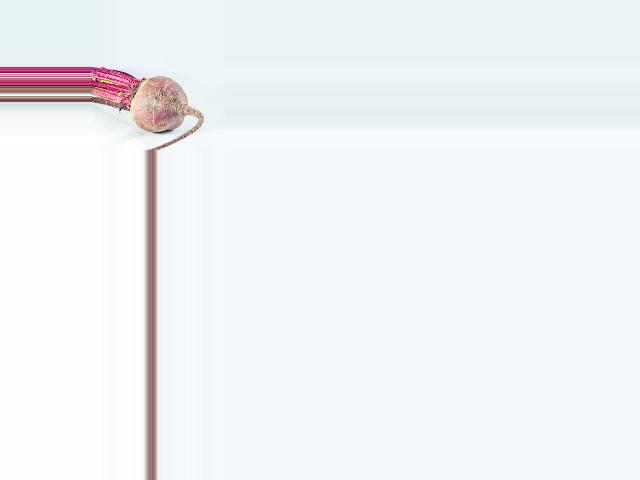beet: (89, 66, 203, 150)
